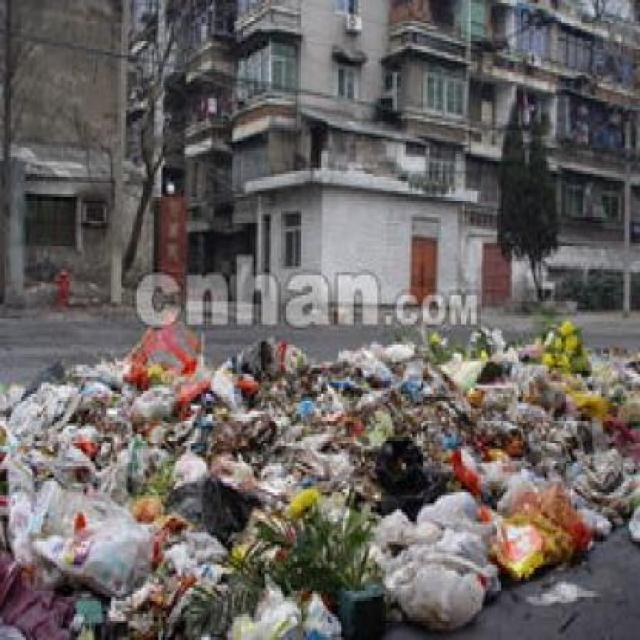garbage: (2, 351, 549, 638), (550, 328, 639, 534)
